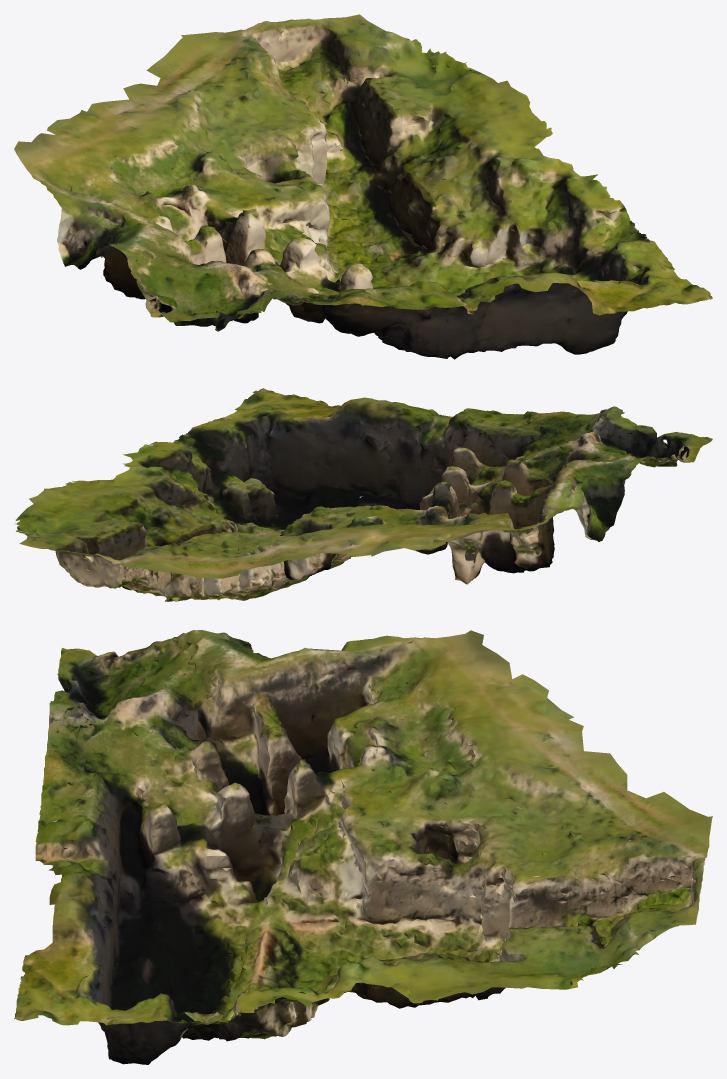
Rendered from dig.glb.
3 renders of one model, top to bottom at view 1: azimuth 30°, elevation 25°; view 2: azimuth 150°, elevation 25°; view 3: azimuth 270°, elevation 25°, orthographic. The views are drawn at different scales.
Parts seen in each view (by area): view 1: Object_3; view 2: Object_3; view 3: Object_3.
Boxes of the visible parts, x1=… form: Object_3: x1=14, y1=14, x2=712, y2=359; Object_3: x1=14, y1=388, x2=712, y2=601; Object_3: x1=14, y1=630, x2=712, y2=1064.
Bounding box in the file's own units: 18 × 5.86 × 18.2.
Materials: 1 (1 with a texture image).
